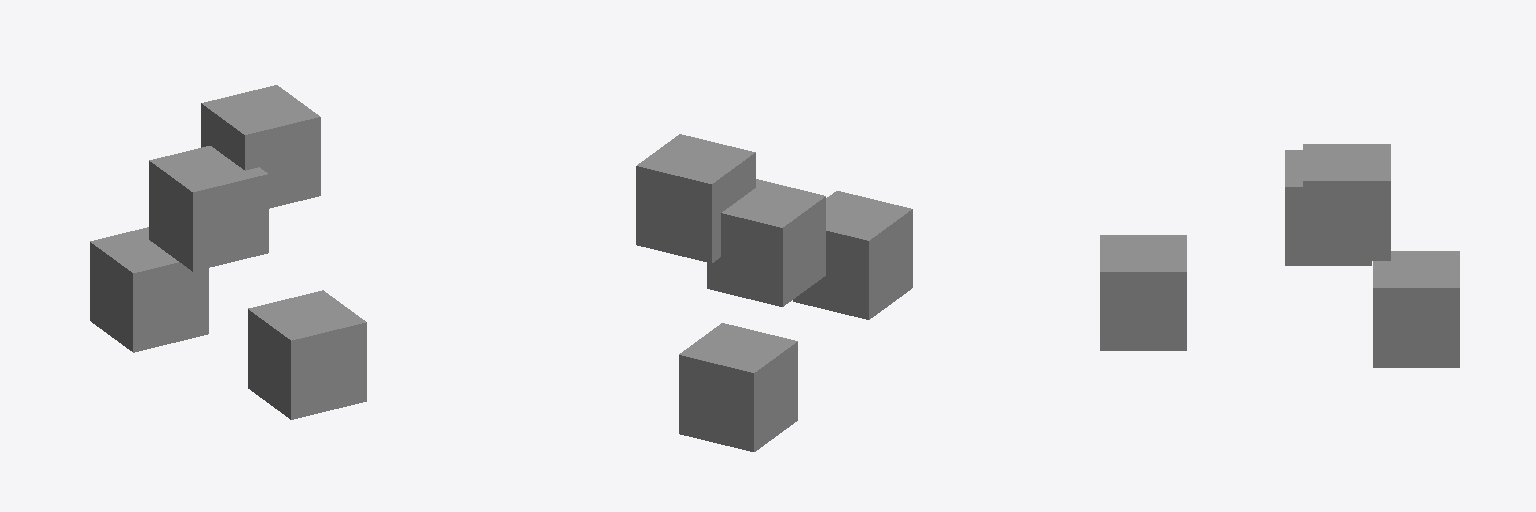
Rendered from twoObjTest.obj.
3 renders of one model, left to right at view 1: azimuth 30°, elevation 25°; view 2: azimuth 150°, elevation 25°; view 3: azimuth 270°, elevation 25°, orthographic.
Parts seen in each view (by area): view 1: Cube.000_Cube.009, Cube.003_Cube.011, Cube.001_Cube.010, Cube.002_Cube.003; view 2: Cube.001_Cube.010, Cube.003_Cube.011, Cube.002_Cube.003, Cube.000_Cube.009; view 3: Cube.002_Cube.003, Cube.000_Cube.009, Cube.001_Cube.010, Cube.003_Cube.011.
Boxes of the visible parts, x1,y1,x2,y2 form: Cube.000_Cube.009: [248, 290, 366, 419]; Cube.003_Cube.011: [149, 146, 268, 271]; Cube.001_Cube.010: [90, 227, 208, 352]; Cube.002_Cube.003: [201, 85, 320, 208]; Cube.001_Cube.010: [679, 323, 797, 451]; Cube.003_Cube.011: [707, 179, 825, 306]; Cube.002_Cube.003: [636, 134, 755, 263]; Cube.000_Cube.009: [793, 191, 912, 319]; Cube.002_Cube.003: [1303, 144, 1390, 260]; Cube.000_Cube.009: [1100, 235, 1186, 350]; Cube.001_Cube.010: [1373, 251, 1459, 367]; Cube.003_Cube.011: [1285, 150, 1371, 265].
Size of the model in its own units: 4.03 by 5.65 by 8.23.